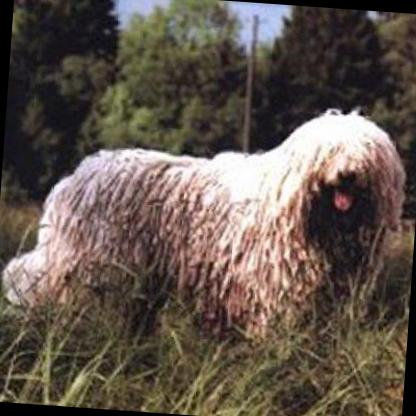komondor: (0, 77, 411, 367)
